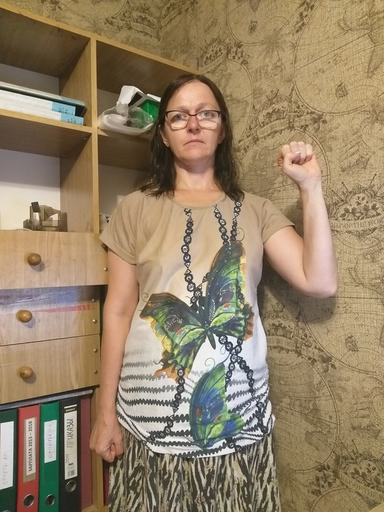fist: (278, 140, 324, 186)
